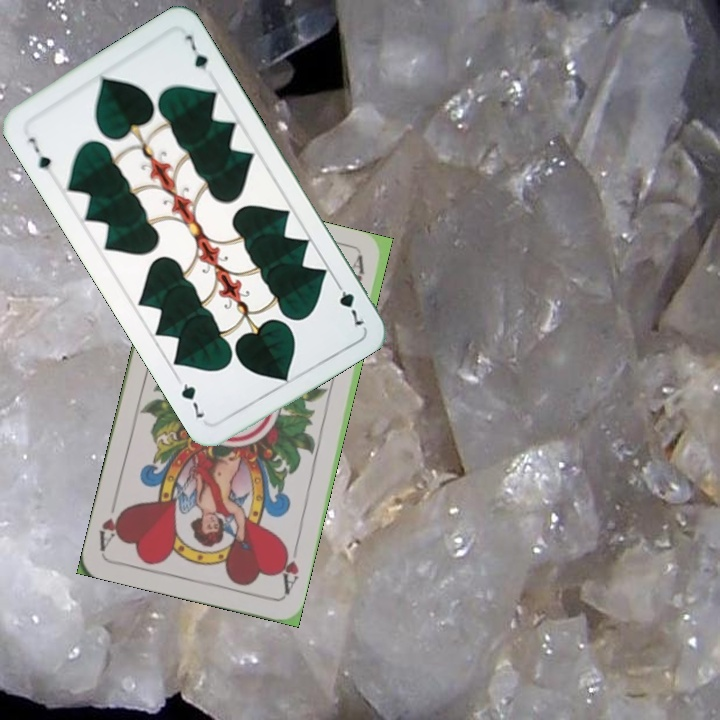G7: (330, 275, 367, 329), (24, 133, 54, 173)
HA: (275, 539, 302, 598)
